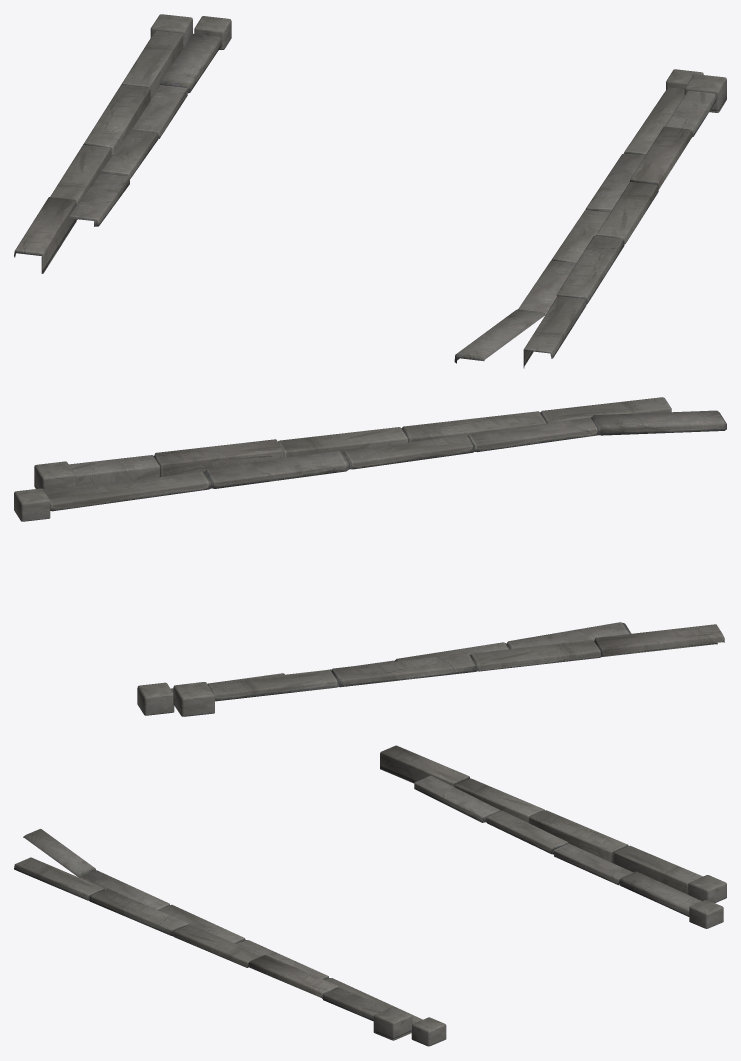
Rendered from SM_ENV_LKNVLD_Ground_Left_SideTrimOuter_04.FBX.
3 renders of one model, top to bottom at view 1: azimuth 30°, elevation 25°; view 2: azimuth 150°, elevation 25°; view 3: azimuth 270°, elevation 25°, orthographic. The views are drawn at different scales.
Parts seen in each view (by area): view 1: SM_ENV_LKNVLD_Ground_Left_SideTrimOuter_04; view 2: SM_ENV_LKNVLD_Ground_Left_SideTrimOuter_04; view 3: SM_ENV_LKNVLD_Ground_Left_SideTrimOuter_04.
Part boxes in pixels (x1,y1,x2,y2): SM_ENV_LKNVLD_Ground_Left_SideTrimOuter_04: (14, 14, 726, 368); SM_ENV_LKNVLD_Ground_Left_SideTrimOuter_04: (14, 397, 726, 716); SM_ENV_LKNVLD_Ground_Left_SideTrimOuter_04: (14, 745, 726, 1046).
Size of the model in its own units: 1245 by 55.37 by 1346.
